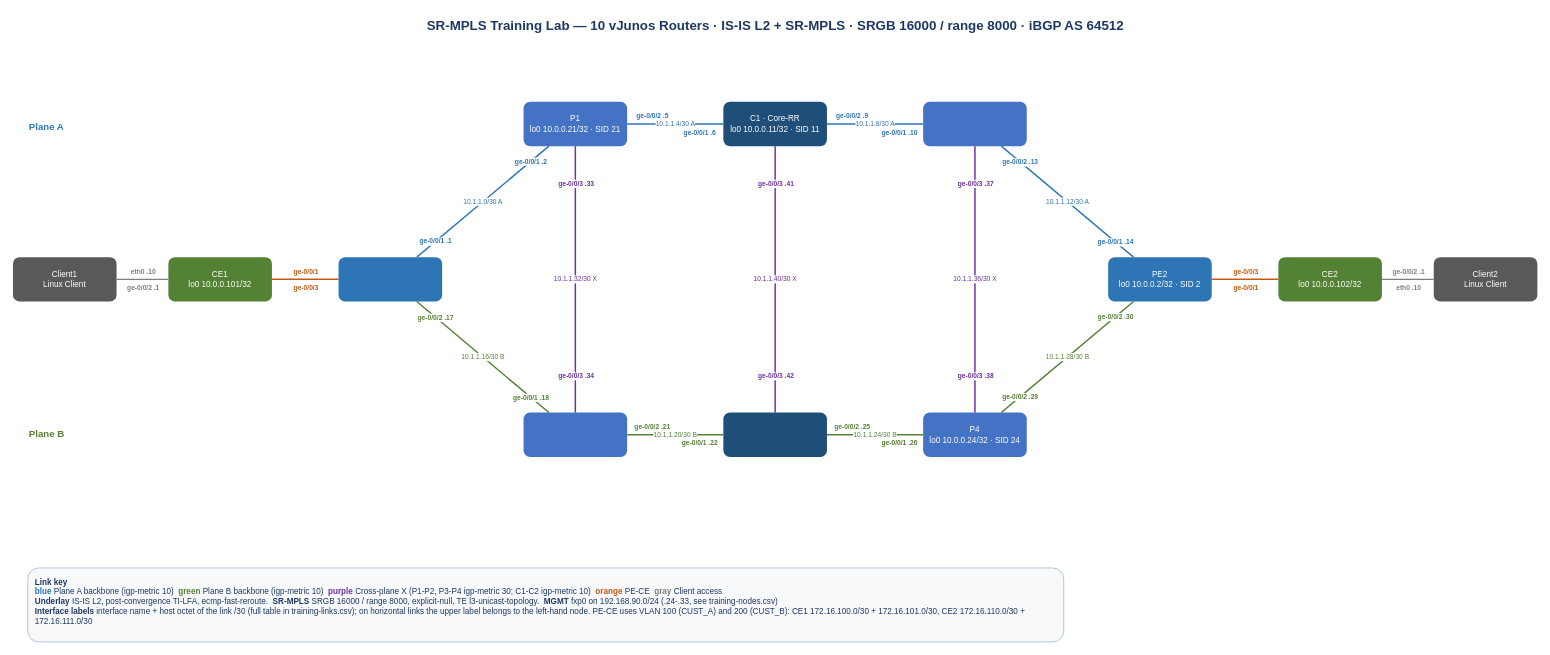
Image size: 1550x655. Some labels were removed from this diagram. The box of each missing label's shape, as (x1, y1, x2, y2) in pixels:
C2 · Core-RR lo0 10.0.0.12/32 · SID 12: (723, 412, 827, 457)
P2 lo0 10.0.0.22/32 · SID 22: (523, 412, 627, 457)
P3 lo0 10.0.0.23/32 · SID 23: (923, 101, 1026, 146)
PE1 lo0 10.0.0.1/32 · SID 1: (338, 257, 442, 301)
